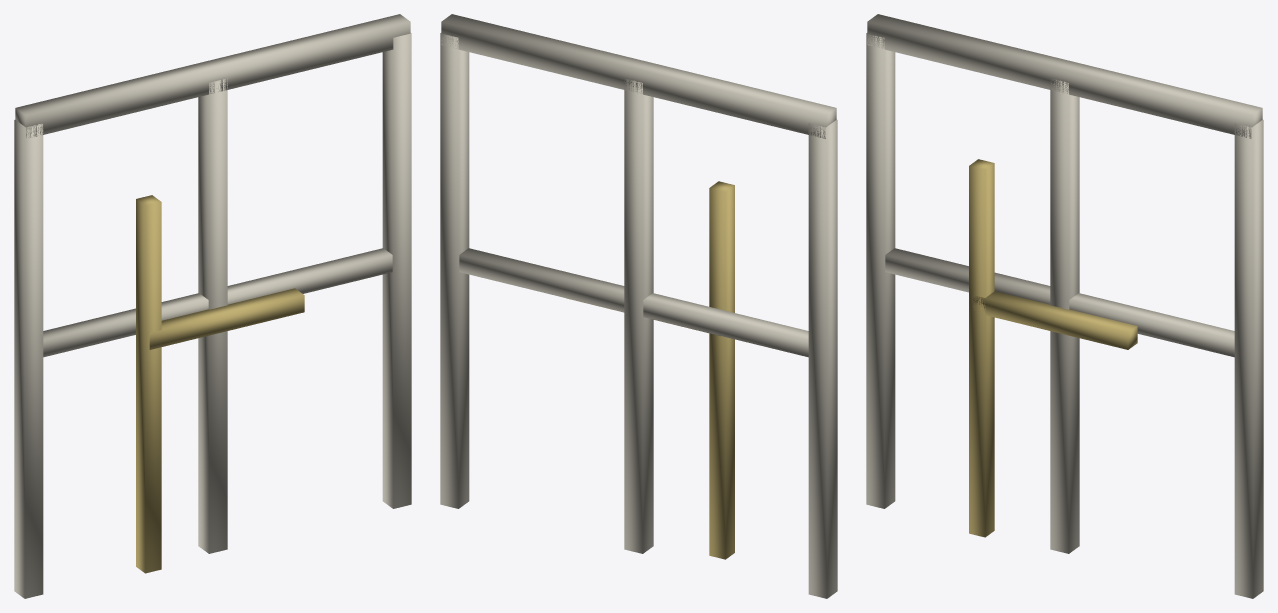
Rendered from civic_gate_l90_h110.glb.
3 views of the same model, side by side, from view 1: azimuth 30°, elevation 25°; view 2: azimuth 150°, elevation 25°; view 3: azimuth 330°, elevation 25° (orthographic).
Visible parts, largest first — view 1: world; view 2: world; view 3: world.
Boxes of the visible parts, bbox=[...] form: world: bbox=[14, 14, 411, 598]; world: bbox=[440, 14, 837, 598]; world: bbox=[866, 14, 1263, 598].
Size of the model in its own units: 0.945 by 1.13 by 0.0825.
